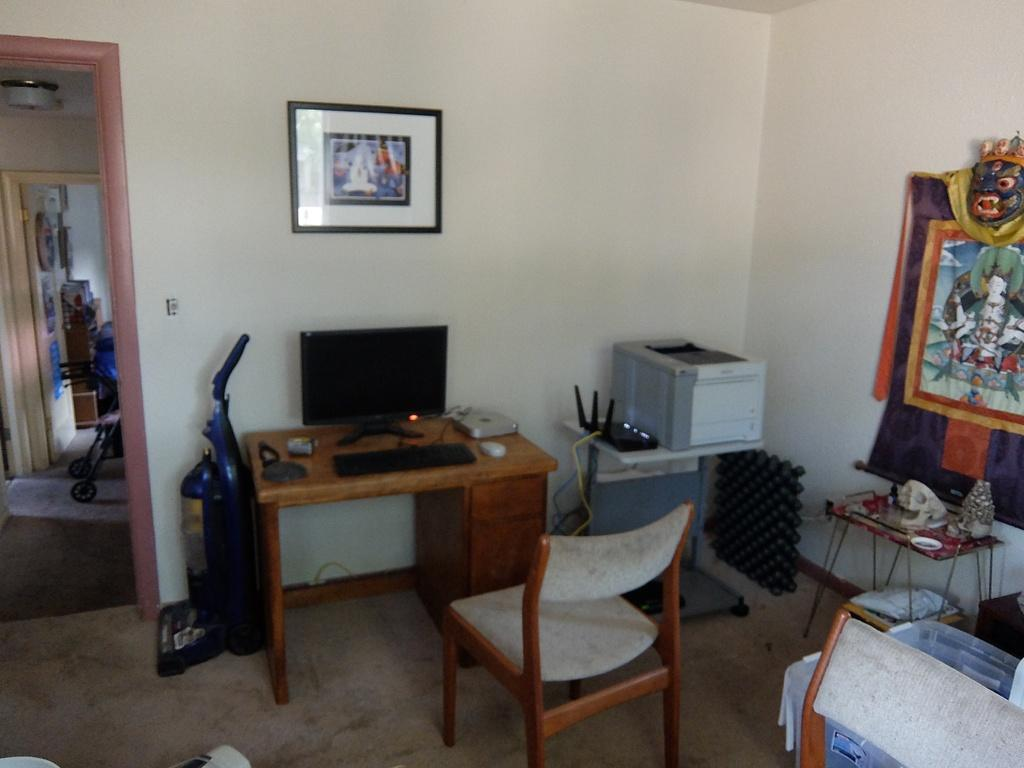Chair: (440, 498, 695, 767)
Computer-monitor: (295, 320, 451, 443)
